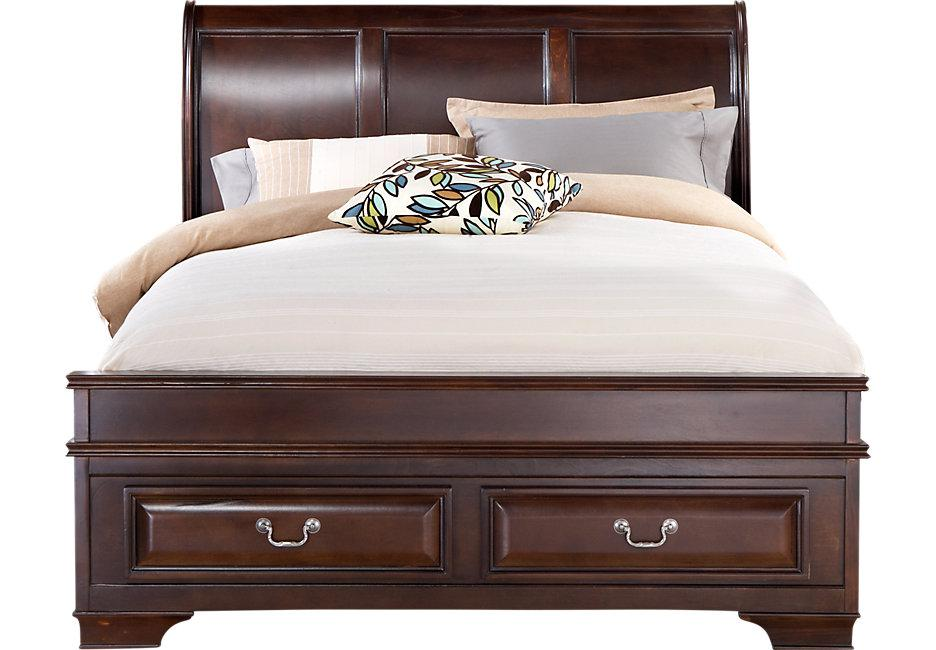bed: (62, 10, 869, 650)
